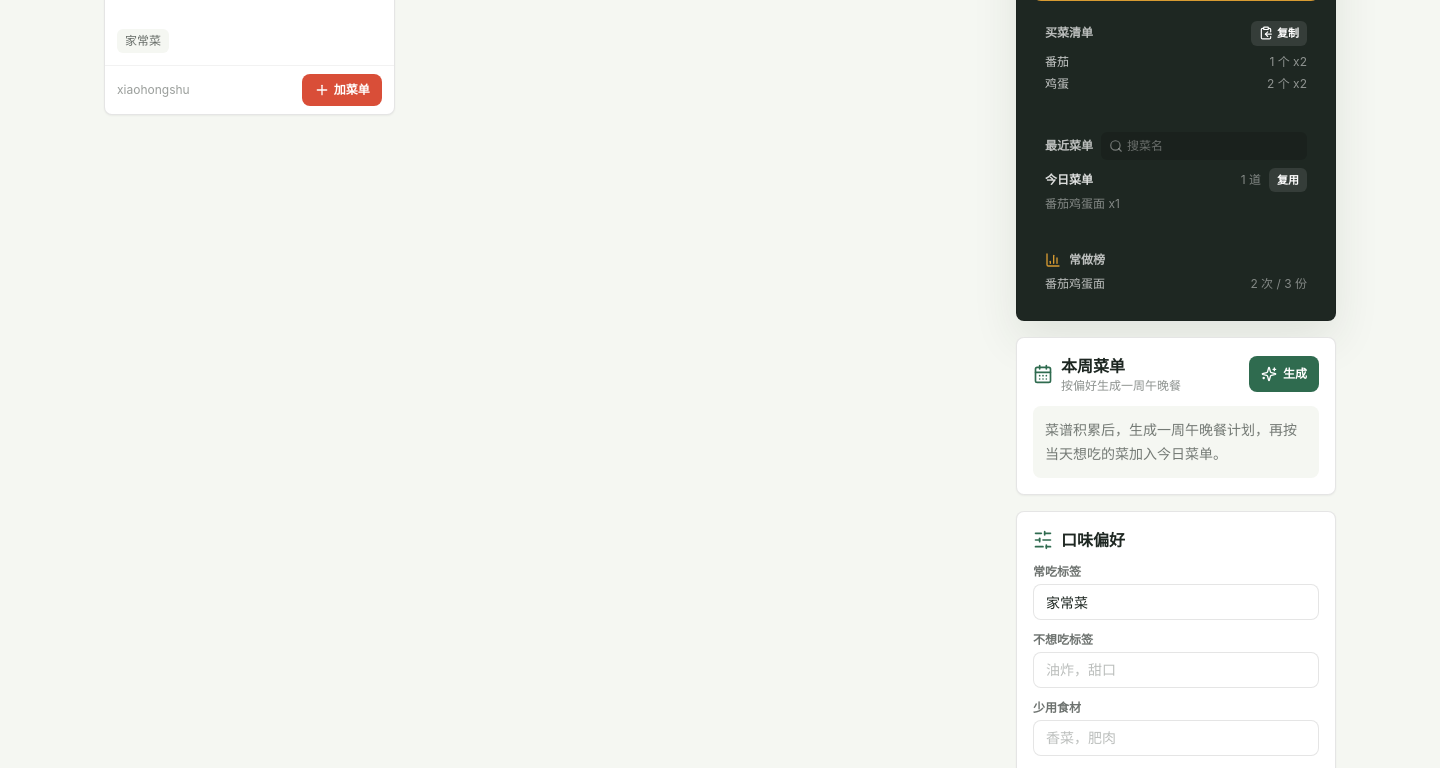
App › generates a weekly plan and adds one meal to today's menu
(page scrolled)
Click the button "生成".
click(1284, 374)  # box x1=1249 y1=356 x2=1319 y2=392
(page scrolled)
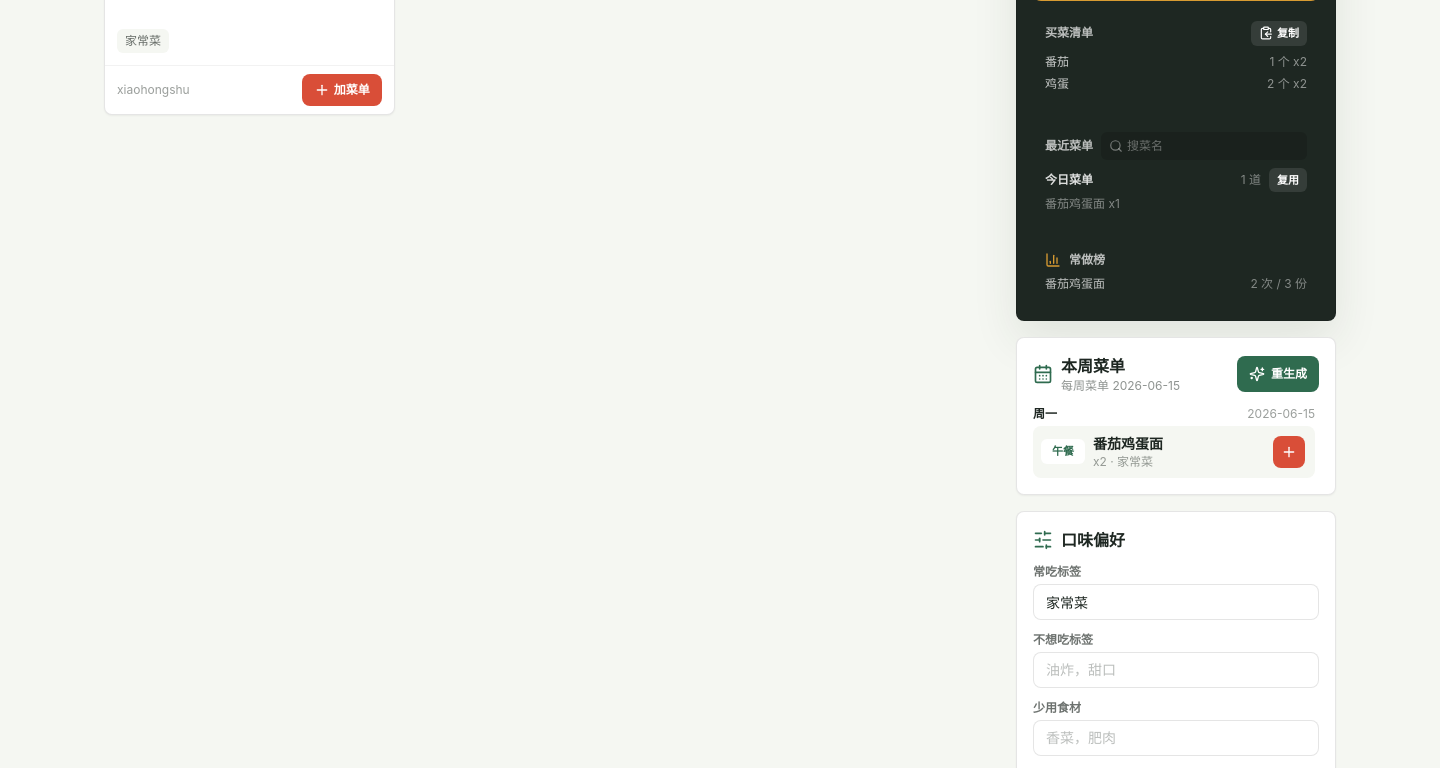
Now the text "每周菜单 2026-06-15" is shown, box x1=1061 y1=378 x2=1180 y2=394
Click the button named "加入今日菜单 番茄鸡蛋面".
click(1289, 452)  # box x1=1273 y1=436 x2=1305 y2=468
(page scrolled)
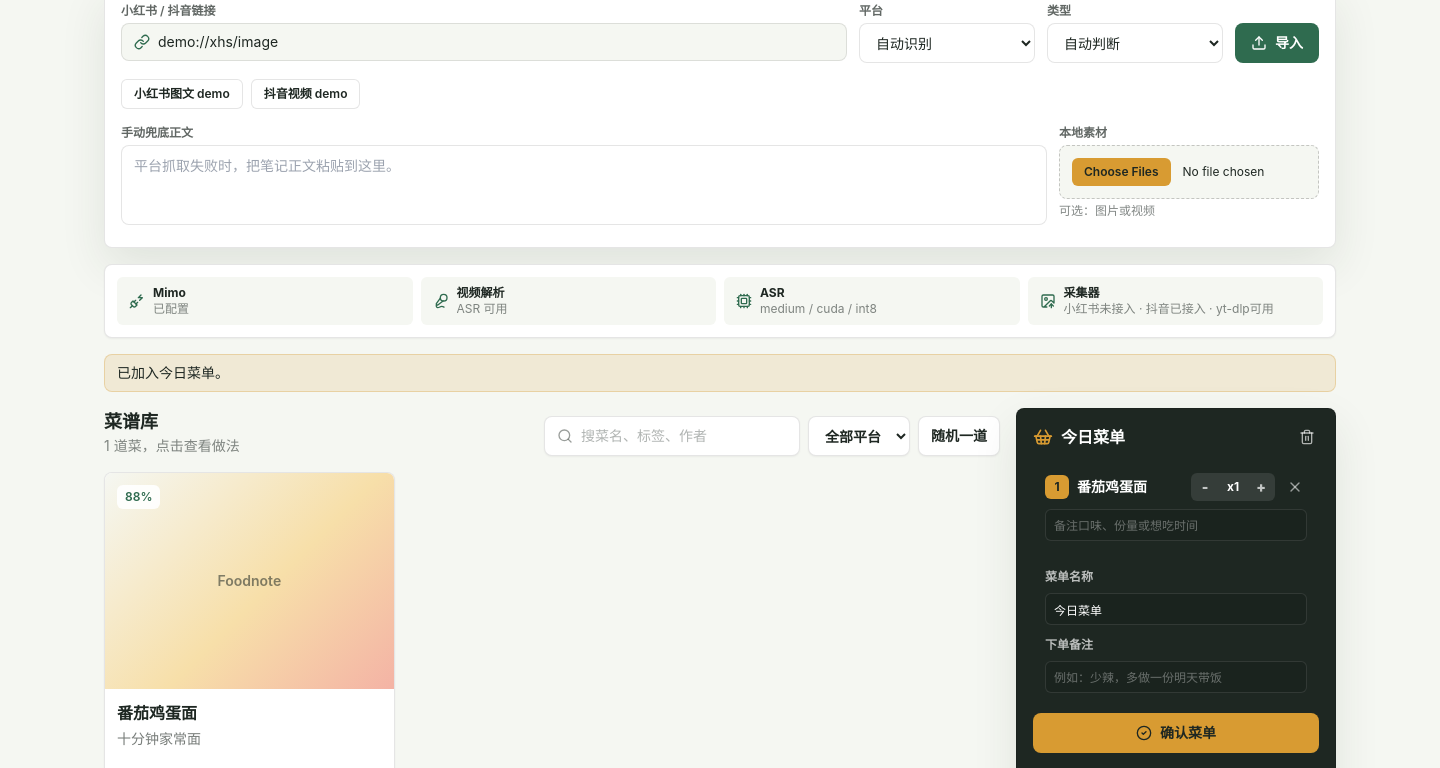
Now the text "已加入今日菜单。" is shown, box x1=104 y1=354 x2=1336 y2=392
